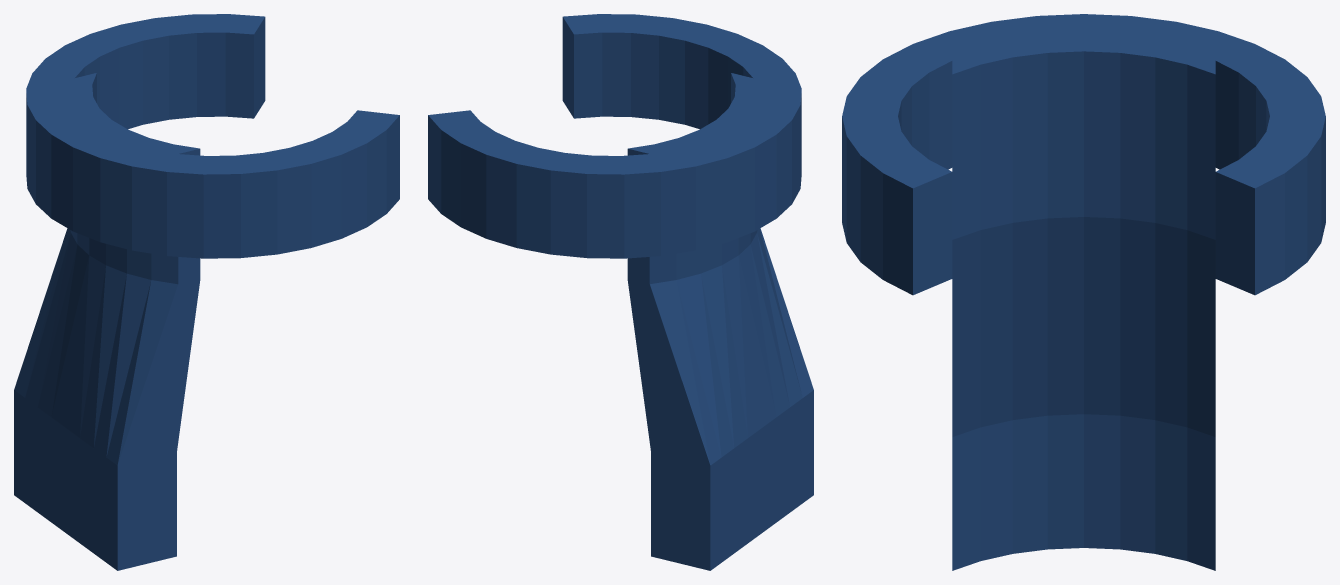
File: VIS_WristLink1.dae
The picture shows the model from 3 angles, left to right: view 1: azimuth 30°, elevation 25°; view 2: azimuth 150°, elevation 25°; view 3: azimuth 270°, elevation 25°; orthographic projection. The views are drawn at different scales.
Visible parts, largest first — view 1: VIS_WristLink1; view 2: VIS_WristLink1; view 3: VIS_WristLink1.
Part boxes in pixels (left/top/right/bottom): VIS_WristLink1: left=14, top=14, right=399, bottom=570; VIS_WristLink1: left=428, top=14, right=813, bottom=570; VIS_WristLink1: left=842, top=14, right=1325, bottom=570.
Size of the model in its own units: 0.0991 by 0.1161 by 0.1354.
